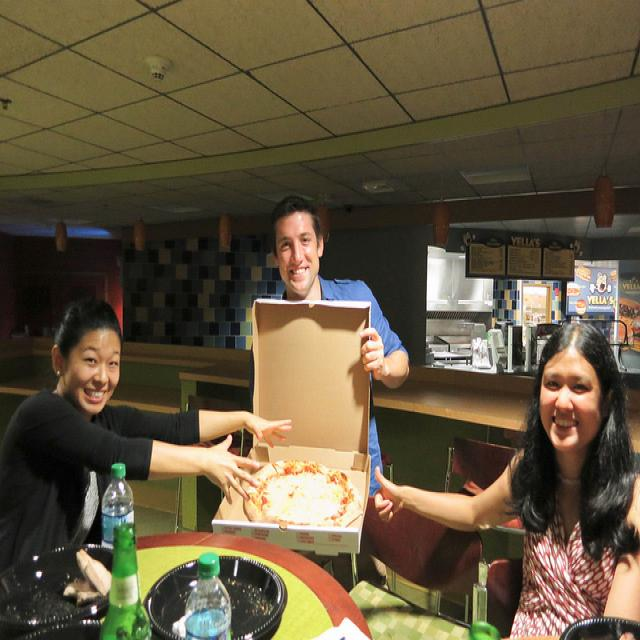chair: (362, 495, 481, 590), (176, 395, 252, 517), (480, 524, 525, 635), (445, 437, 520, 496)
dining table: (137, 535, 365, 633)
